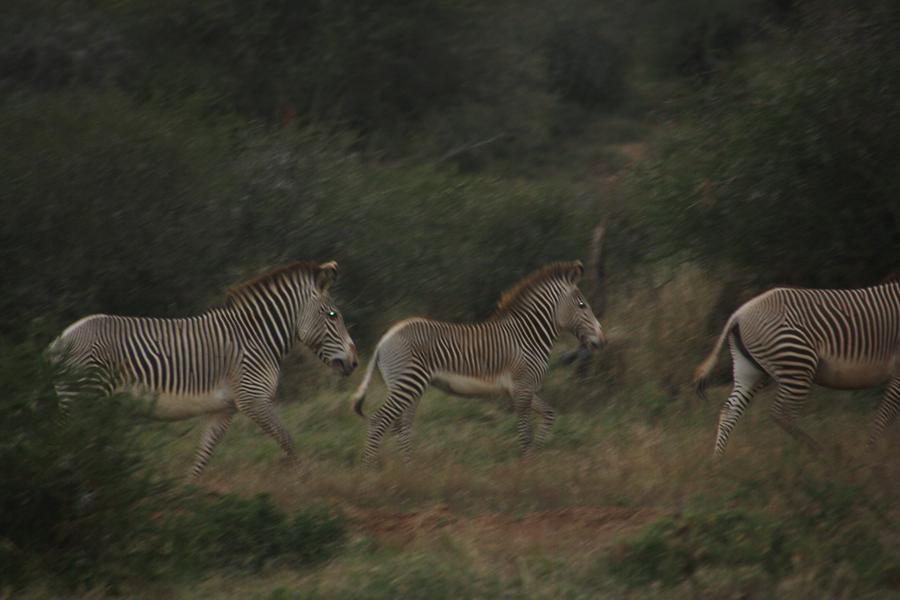zebra_grevys: (52, 302, 275, 400)
